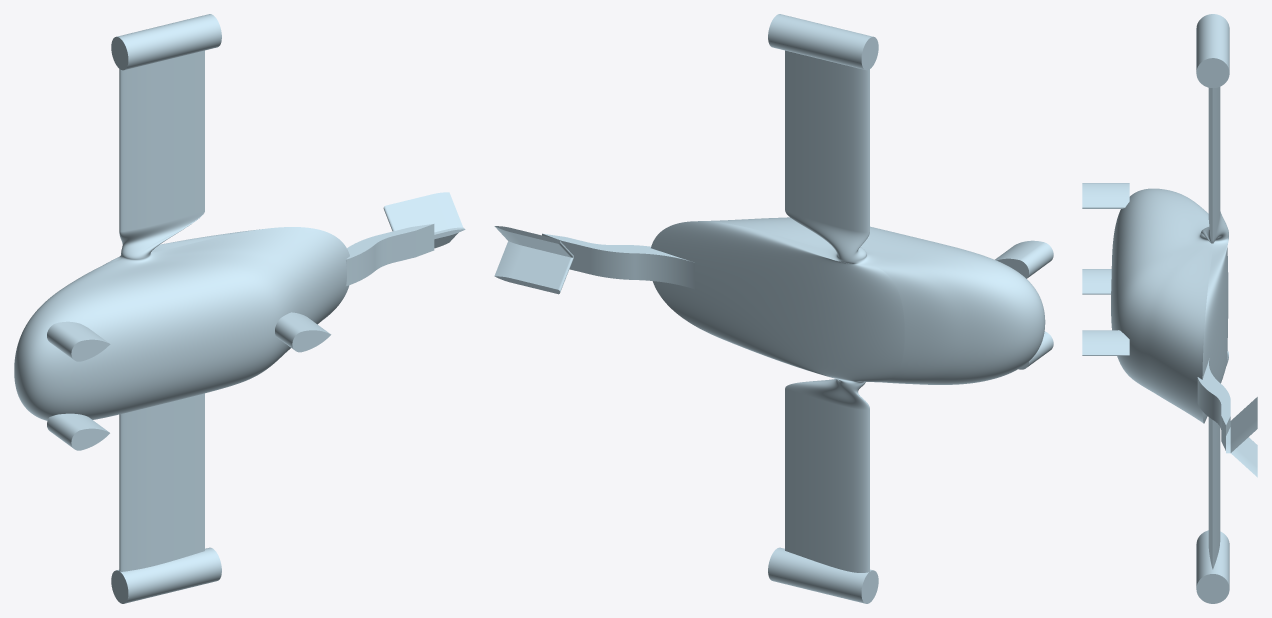
The picture shows the model from 3 angles, left to right: view 1: azimuth 30°, elevation 25°; view 2: azimuth 150°, elevation 25°; view 3: azimuth 270°, elevation 25°; orthographic projection. The views are drawn at different scales.
Visible parts, largest first — view 1: Part 1; view 2: Part 1; view 3: Part 1.
Boxes of the visible parts, bbox=[...] form: Part 1: bbox=[14, 14, 465, 603]; Part 1: bbox=[494, 14, 1053, 603]; Part 1: bbox=[1082, 14, 1257, 603].
Size of the model in its own units: 5.75 by 6.35 by 1.85.
